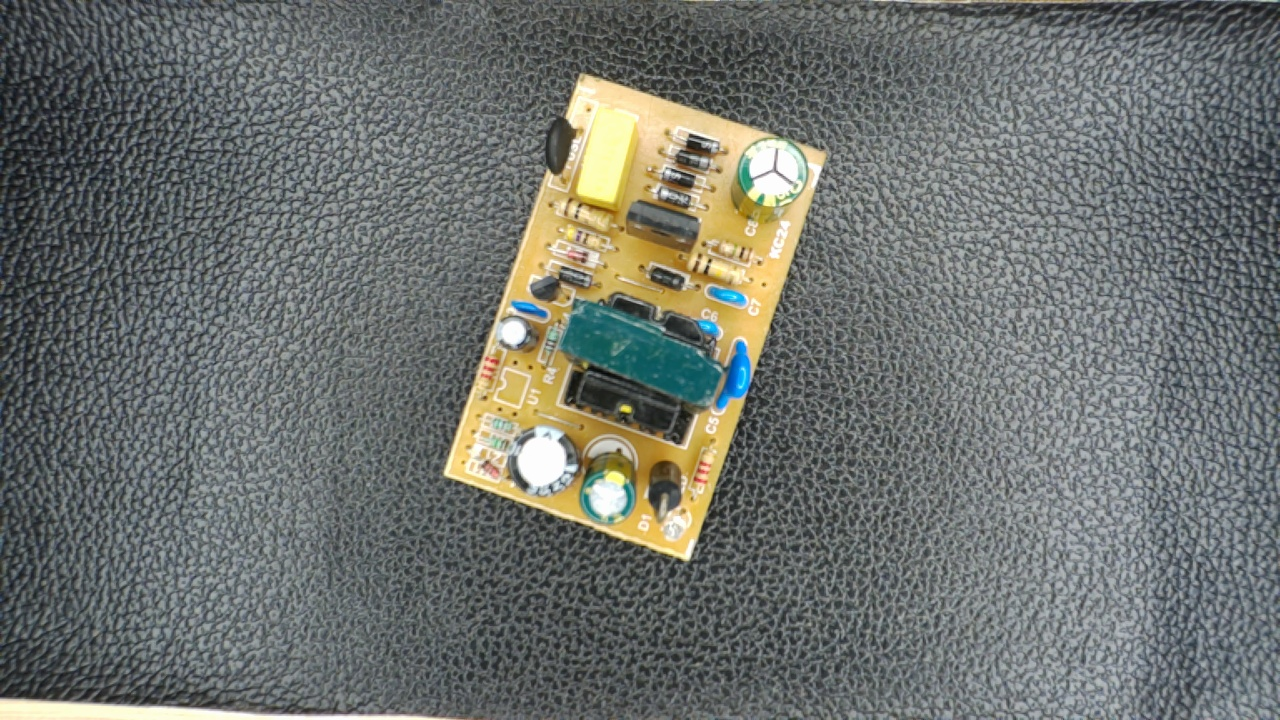fuse: (537, 114, 588, 192)
hv_capacitor: (734, 134, 809, 225)
mov: (714, 330, 756, 423)
